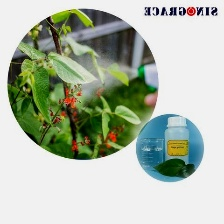insecticide: (162, 114, 190, 171)
